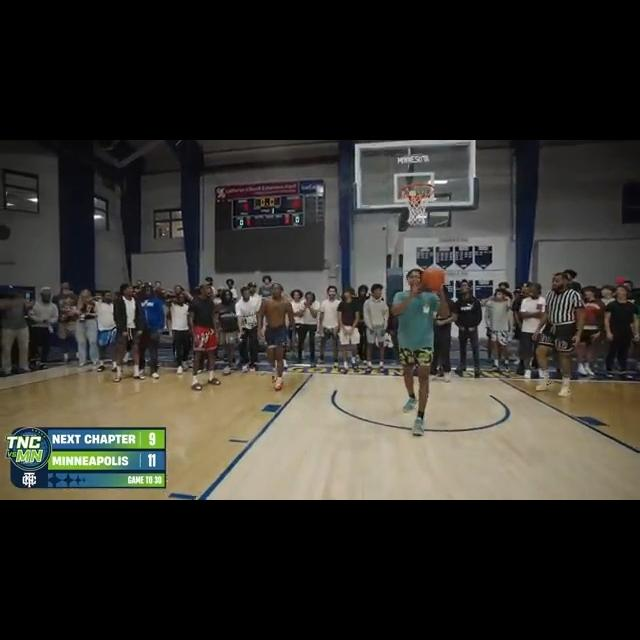basketball: (422, 263, 444, 290)
hoop: (403, 183, 434, 227)
